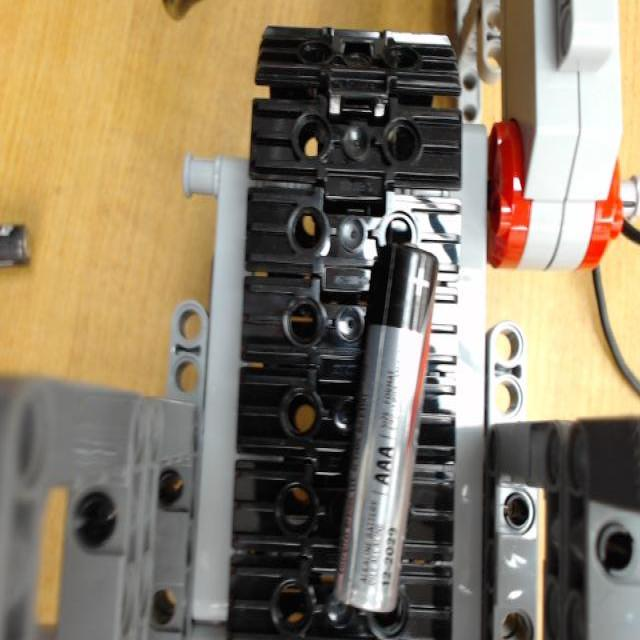AAA: (334, 239, 438, 617)
